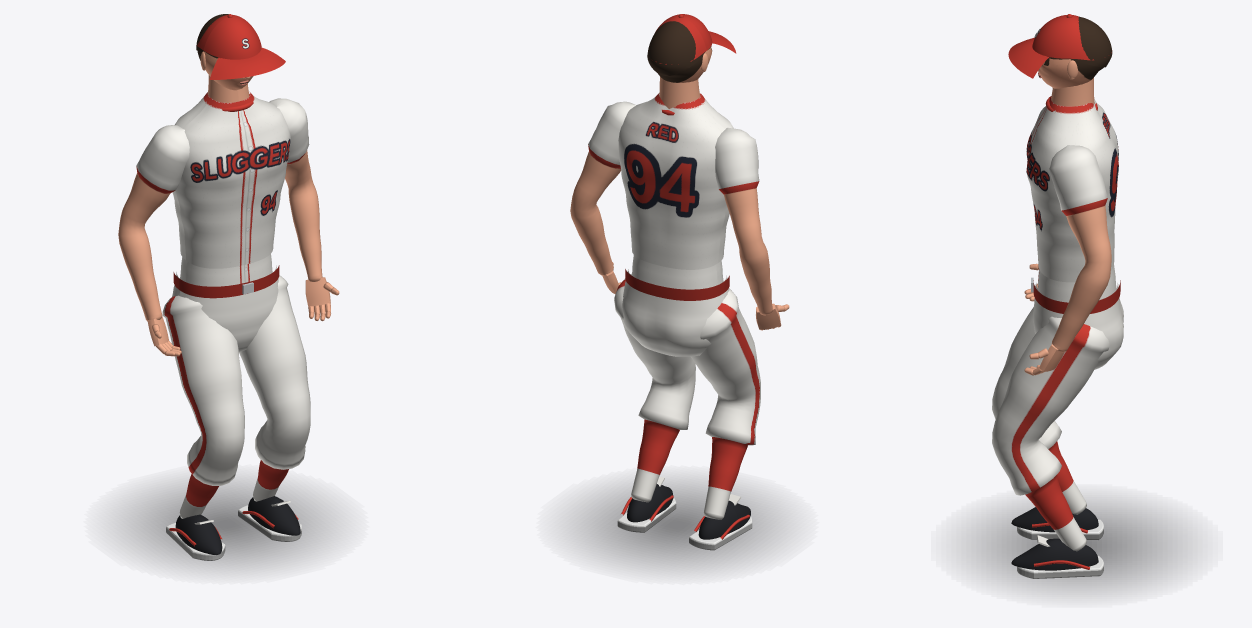
Rendered from player_29_home.glb.
The picture shows the model from 3 angles, left to right: view 1: azimuth 30°, elevation 25°; view 2: azimuth 150°, elevation 25°; view 3: azimuth 270°, elevation 25°; orthographic projection. The views are drawn at different scales.
Parts seen in each view (by area): view 1: player_29_home, object 30, object 32, object 2; view 2: player_29_home, object 29, object 2, object 30; view 3: player_29_home, object 30, object 29, object 34, object 32, object 2.
Boxes of the visible parts, bbox=[...] form: player_29_home: bbox=[117, 91, 334, 570]; object 30: bbox=[196, 14, 261, 59]; object 32: bbox=[209, 47, 285, 79]; object 2: bbox=[208, 75, 249, 102]; player_29_home: bbox=[569, 93, 785, 570]; object 29: bbox=[647, 21, 711, 76]; object 2: bbox=[659, 77, 700, 108]; object 30: bbox=[652, 14, 712, 64]; player_29_home: bbox=[966, 96, 1187, 592]; object 30: bbox=[1032, 14, 1112, 60]; object 29: bbox=[1049, 16, 1112, 67]; object 34: bbox=[1038, 58, 1103, 88]; object 32: bbox=[1008, 37, 1049, 78]; object 2: bbox=[1051, 77, 1094, 106].
Size of the model in its own units: 3.2 by 5.92 by 3.2.
Materials: 26 (5 with a texture image).
